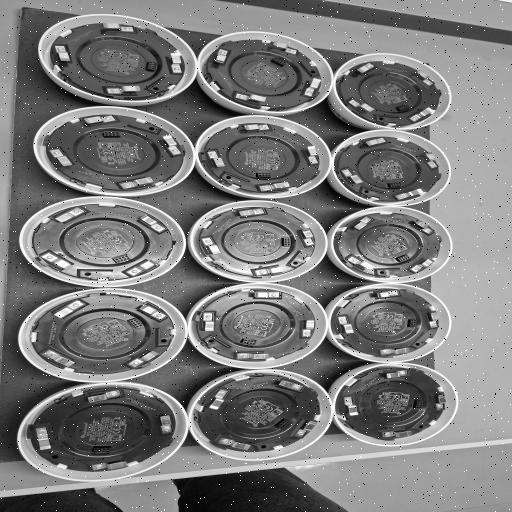konnektor: (126, 316, 144, 330), (100, 131, 128, 140), (236, 337, 262, 346), (248, 170, 274, 179), (91, 444, 110, 456), (270, 56, 290, 67), (272, 418, 290, 430), (112, 253, 130, 265), (404, 317, 420, 329), (394, 103, 412, 113), (143, 61, 159, 72), (412, 398, 426, 410), (280, 236, 294, 248), (396, 253, 410, 262), (387, 181, 404, 188)
yaysiz: (50, 206, 87, 227), (51, 43, 78, 71), (154, 133, 184, 158), (214, 436, 258, 453), (204, 388, 235, 412), (39, 251, 76, 271), (133, 215, 170, 235), (100, 82, 144, 98), (48, 146, 76, 171), (34, 426, 58, 455), (122, 259, 160, 277), (271, 378, 309, 396), (43, 348, 77, 368), (291, 417, 320, 440), (89, 458, 133, 473), (52, 300, 88, 318), (115, 175, 158, 190), (83, 389, 125, 404), (263, 39, 300, 56), (155, 410, 177, 438), (98, 21, 136, 37), (228, 90, 270, 104), (138, 302, 170, 320), (338, 164, 364, 186), (346, 255, 379, 272), (339, 394, 362, 418), (346, 98, 378, 115), (164, 51, 186, 75), (245, 264, 289, 276), (236, 123, 276, 136), (391, 187, 428, 201), (204, 148, 227, 170), (414, 68, 438, 89), (198, 235, 222, 256), (296, 225, 317, 249), (410, 218, 438, 236), (301, 144, 323, 166), (417, 149, 440, 170), (409, 106, 435, 124), (211, 46, 232, 68), (301, 77, 323, 98), (350, 215, 377, 232), (254, 180, 292, 192), (379, 427, 417, 439), (79, 114, 120, 125), (232, 207, 269, 219), (411, 256, 437, 273), (370, 289, 404, 302), (336, 315, 357, 336), (298, 318, 318, 340), (429, 392, 449, 414), (378, 345, 414, 357), (233, 351, 272, 362), (360, 136, 392, 149), (380, 368, 412, 381), (202, 310, 218, 335), (248, 290, 283, 300), (424, 309, 440, 329), (353, 62, 377, 75)
